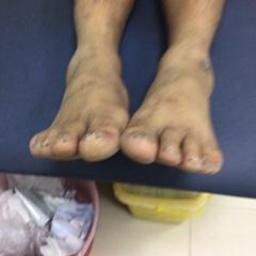Front View -Both Feet-: (24, 10, 230, 197)
